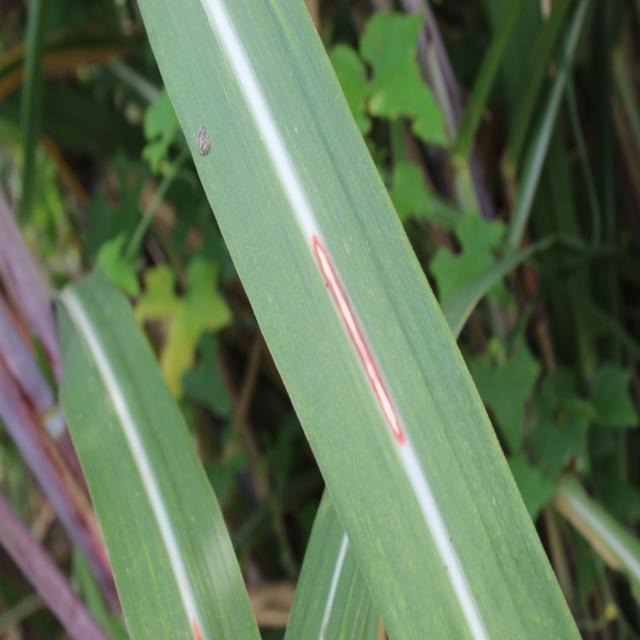Sugarcane: (52, 266, 266, 640), (283, 483, 381, 640)
